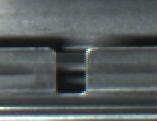oneu: (41, 43, 99, 98)
